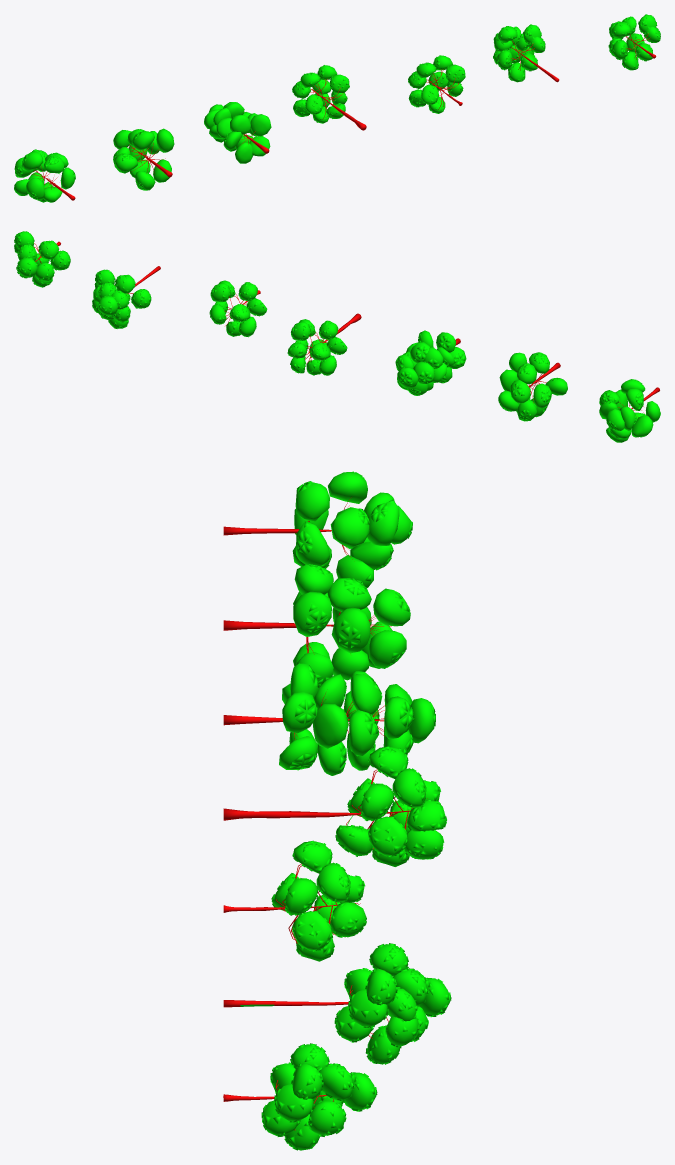
File: Trees.fbx
The picture shows the model from 3 angles, top to bottom: view 1: azimuth 30°, elevation 25°; view 2: azimuth 150°, elevation 25°; view 3: azimuth 270°, elevation 25°; orthographic projection. The views are drawn at different scales.
Visible parts, largest first — view 1: Tree 1 Var 3M, Tree 1 Var 2M, Tree 2 Var 1L, Tree 1 Var 1M, Tree 2 Var 1S, Tree 2 Var 2L, Tree 2 Var 2S; view 2: Tree 1 Var 2M, Tree 1 Var 3M, Tree 1 Var 1M, Tree 2 Var 1L, Tree 2 Var 2L, Tree 2 Var 1S, Tree 2 Var 2S; view 3: Tree 1 Var 3M, Tree 1 Var 2M, Tree 2 Var 1L, Tree 1 Var 1M, Tree 2 Var 2L, Tree 2 Var 2S, Tree 2 Var 1S.
Boxes of the visible parts, x1,y1,x2,y2 form: Tree 1 Var 3M: [204, 102, 271, 163]; Tree 1 Var 2M: [113, 128, 174, 190]; Tree 2 Var 1L: [292, 65, 366, 130]; Tree 1 Var 1M: [14, 149, 75, 202]; Tree 2 Var 1S: [408, 55, 465, 113]; Tree 2 Var 2L: [493, 24, 559, 82]; Tree 2 Var 2S: [608, 14, 660, 70]; Tree 1 Var 2M: [498, 352, 567, 421]; Tree 1 Var 3M: [395, 330, 466, 395]; Tree 1 Var 1M: [599, 379, 660, 442]; Tree 2 Var 1L: [287, 313, 361, 375]; Tree 2 Var 2L: [92, 266, 160, 328]; Tree 2 Var 1S: [209, 280, 267, 337]; Tree 2 Var 2S: [14, 231, 70, 287]; Tree 1 Var 3M: [223, 663, 435, 775]; Tree 1 Var 2M: [223, 564, 410, 687]; Tree 2 Var 1L: [223, 746, 446, 866]; Tree 1 Var 1M: [223, 471, 412, 587]; Tree 2 Var 2L: [223, 943, 451, 1064]; Tree 2 Var 2S: [223, 1043, 377, 1150]; Tree 2 Var 1S: [223, 840, 366, 961].
Bounding box in the file's own units: 32614 × 2982 × 5099.
